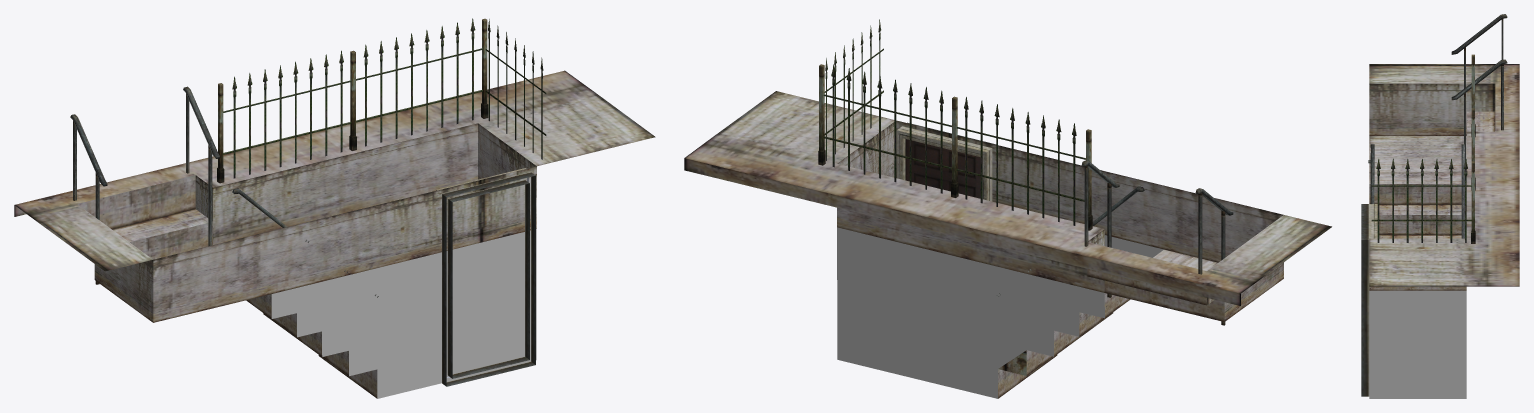
File: Trottoir_16.fbx
3 views of the same model, side by side, from view 1: azimuth 30°, elevation 25°; view 2: azimuth 150°, elevation 25°; view 3: azimuth 270°, elevation 25° (orthographic). The views are drawn at different scales.
Parts seen in each view (by area): view 1: Trottoir_16; view 2: Trottoir_16; view 3: Trottoir_16.
Boxes of the visible parts, x1,y1,x2,y2 form: Trottoir_16: [14, 18, 655, 398]; Trottoir_16: [684, 19, 1331, 398]; Trottoir_16: [1361, 14, 1519, 398].
Bounding box in the file's own units: 700 × 361 × 211.
